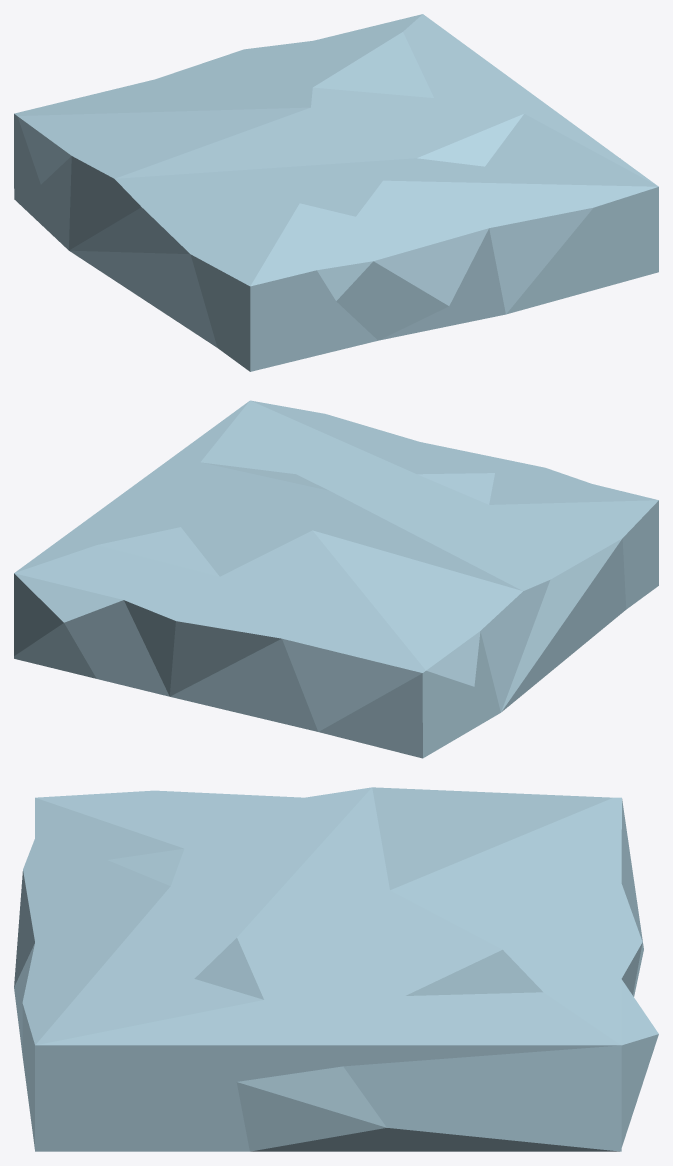
Rendered from iceberg.fbx.
The picture shows the model from 3 angles, top to bottom: view 1: azimuth 30°, elevation 25°; view 2: azimuth 150°, elevation 25°; view 3: azimuth 270°, elevation 25°; orthographic projection. The views are drawn at different scales.
Visible parts, largest first — view 1: Cube; view 2: Cube; view 3: Cube.
Boxes of the visible parts, x1,y1,x2,y2 form: Cube: (14, 14, 658, 371); Cube: (14, 400, 658, 758); Cube: (14, 787, 658, 1151).
Size of the model in its own units: 212 by 64.75 by 220.
